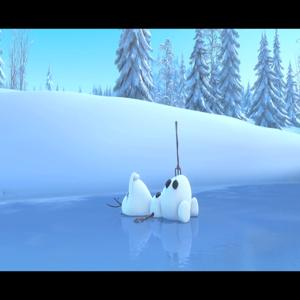olaf: (120, 151, 200, 231)
